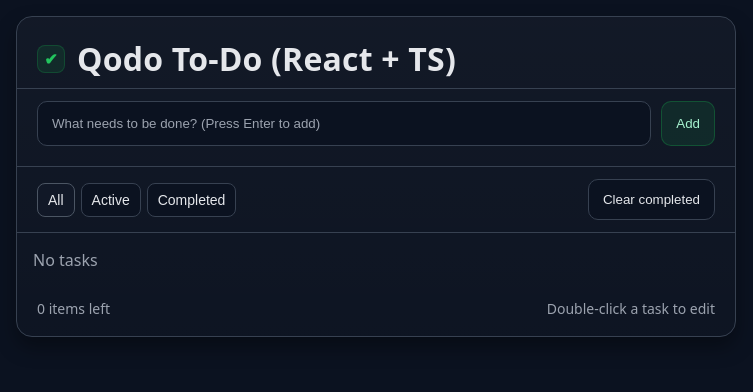
Test: App UI › toggles completion and updates items left
In the field with placeholder "What needs to be done? (Press Enter to add)": coordinates (344, 124) [37,101,651,146], type "Go running"
Then press Enter
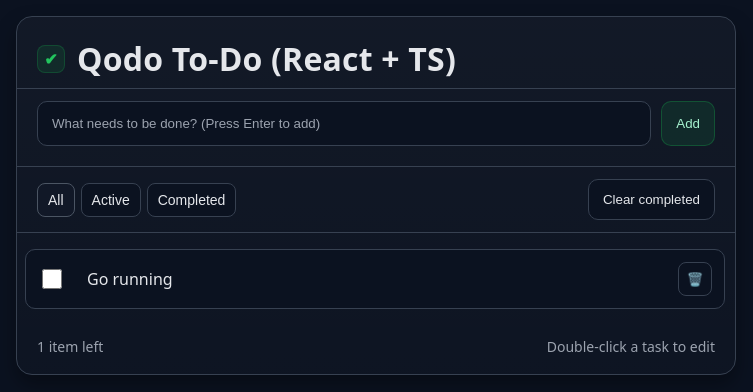
Now the text "1 item left" is shown, box [37,337,103,356]
Click the checkbox: coordinates (52, 279) [42,269,62,289]
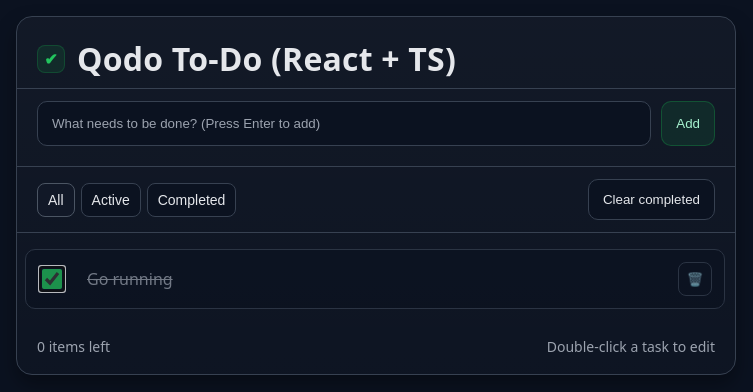
Now the text "0 items left" is shown, box [37,337,110,356]
Click the checkbox: coordinates (52, 279) [42,269,62,289]
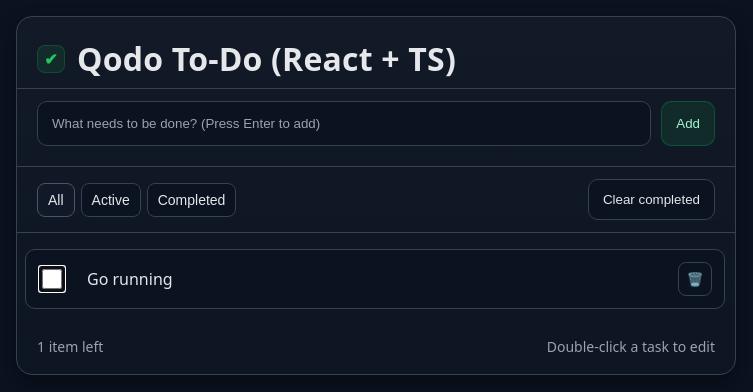
Now the text "1 item left" is shown, box [37,337,103,356]
